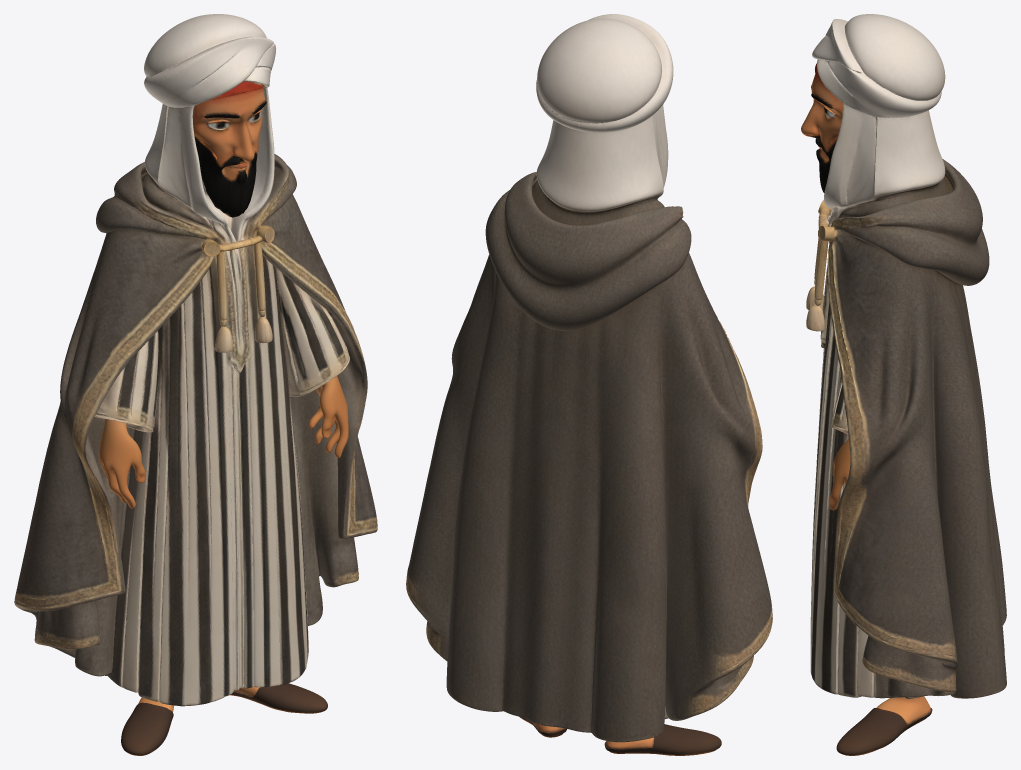
File: fqih_fete__base_basic_pbr.glb
3 renders of one model, left to right at view 1: azimuth 30°, elevation 25°; view 2: azimuth 150°, elevation 25°; view 3: azimuth 270°, elevation 25°, orthographic. The views are drawn at different scales.
Visible parts, largest first — view 1: model; view 2: model; view 3: model.
Boxes of the visible parts, x1,y1,x2,y2 form: model: (14, 14, 377, 755); model: (406, 14, 772, 755); model: (801, 14, 1006, 755).
Bounding box in the file's own units: 0.9715 × 1.9 × 0.5152.
Materials: 1 (1 with a texture image).
